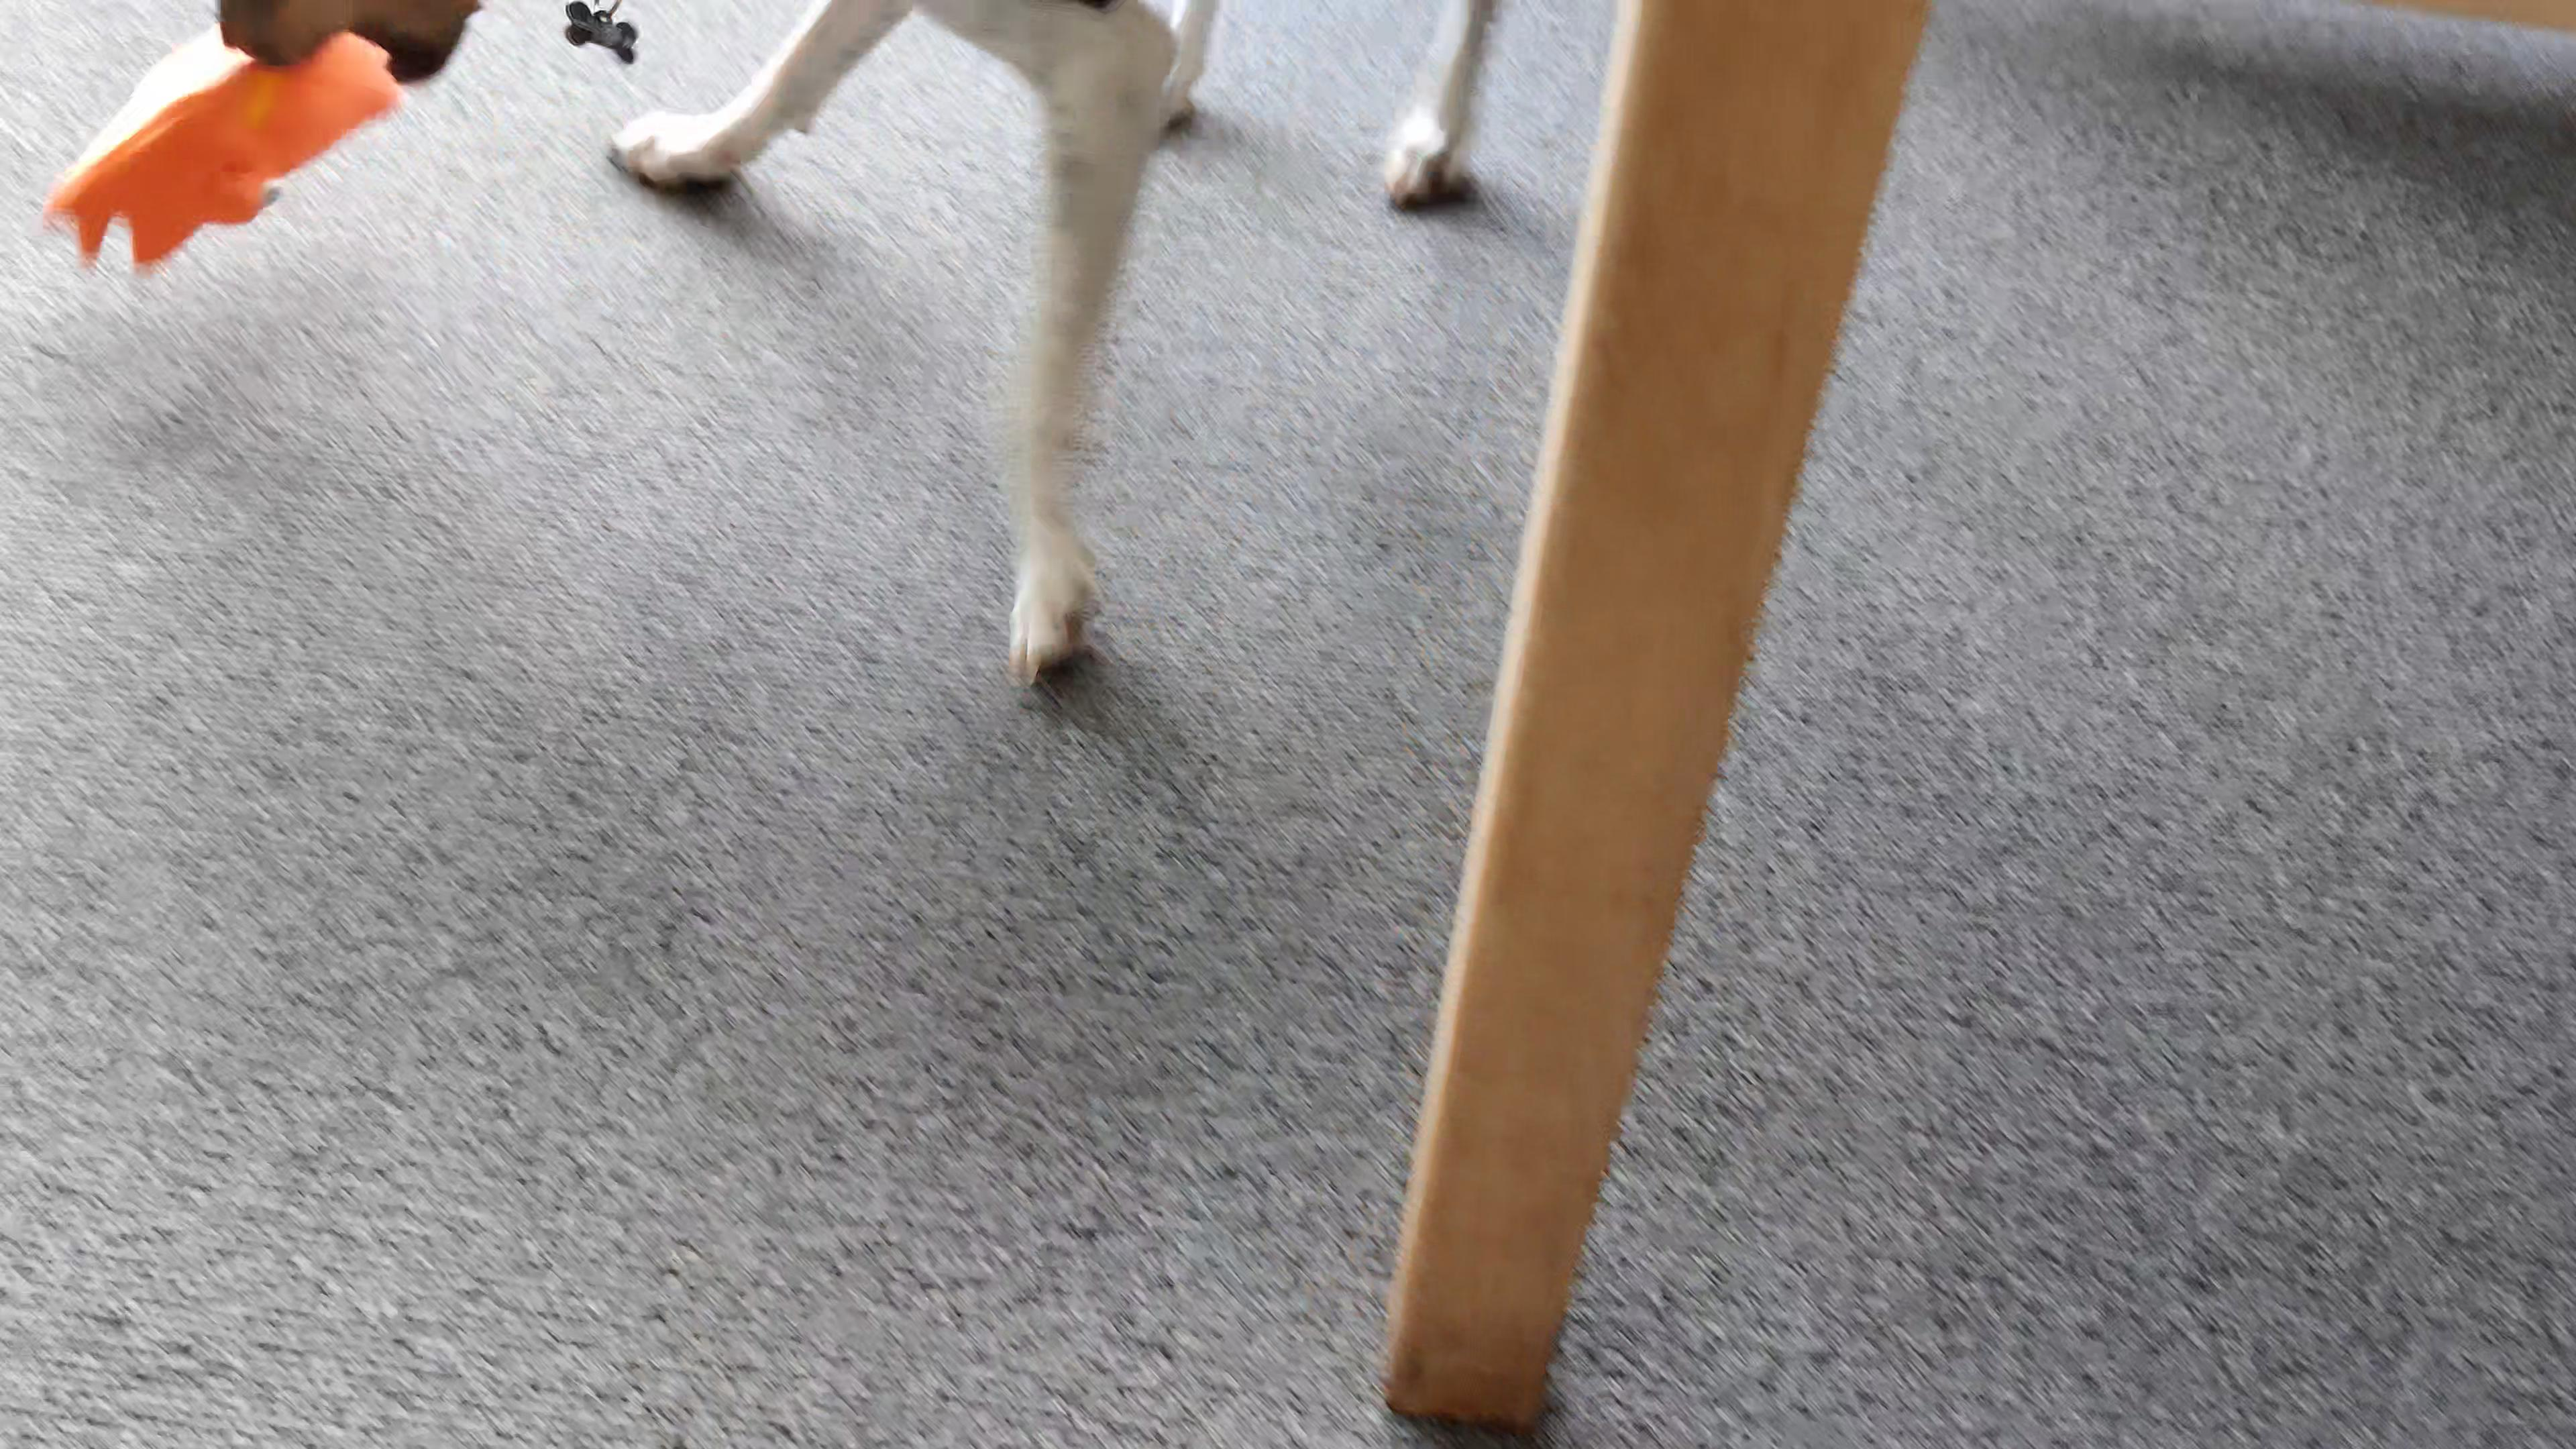Dog: (202, 0, 1555, 692)
